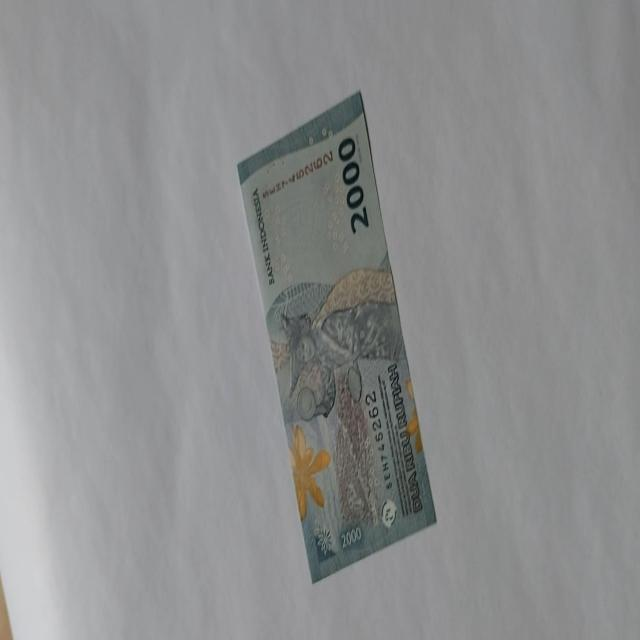dua ribu rupiah: (236, 88, 437, 582)
